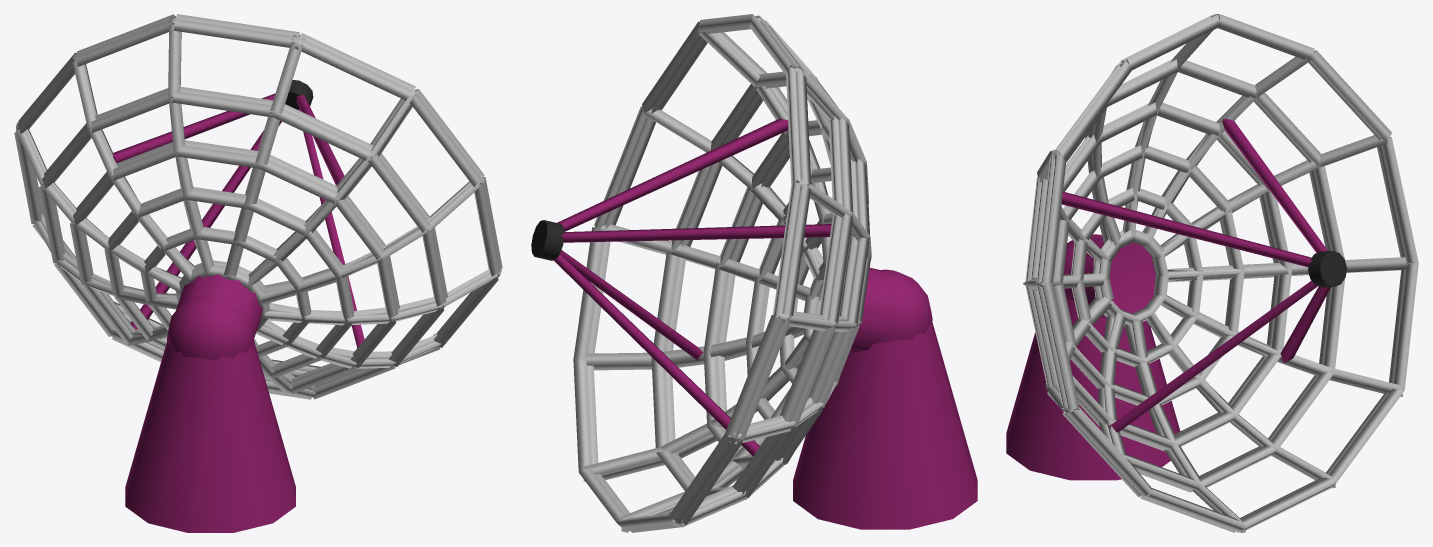
File: SmallBlockRadarRynAR.fbx
3 renders of one model, left to right at view 1: azimuth 30°, elevation 25°; view 2: azimuth 150°, elevation 25°; view 3: azimuth 270°, elevation 25°, orthographic. The views are drawn at different scales.
Parts seen in each view (by area): view 1: Dish, Mount, Strut004; view 2: Dish, Mount, Strut004, Antenna; view 3: Dish, Mount, Strut004, Antenna.
Boxes of the visible parts, left/top/right/bottom form: Dish: left=14, top=14, right=502, bottom=399; Mount: left=125, top=273, right=295, bottom=532; Strut004: left=113, top=93, right=364, bottom=347; Dish: left=573, top=14, right=871, bottom=532; Mount: left=793, top=267, right=977, bottom=529; Strut004: left=552, top=118, right=851, bottom=455; Antenna: left=531, top=220, right=564, bottom=260; Dish: left=1023, top=14, right=1418, bottom=532; Mount: left=1006, top=234, right=1180, bottom=480; Strut004: left=1061, top=118, right=1330, bottom=432; Antenna: left=1308, top=251, right=1346, bottom=287.
Bounding box in the file's own units: 1.16 × 1.35 × 1.14.
